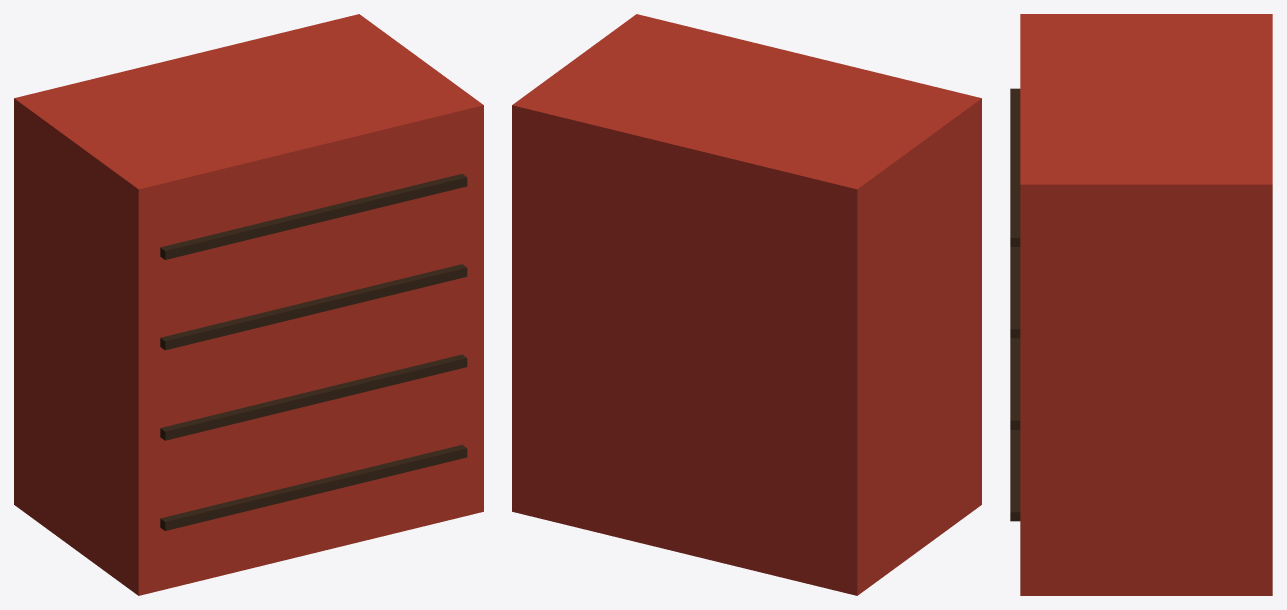
The model's file is f_toolbox.glb.
The picture shows the model from 3 angles, left to right: view 1: azimuth 30°, elevation 25°; view 2: azimuth 150°, elevation 25°; view 3: azimuth 270°, elevation 25°; orthographic projection.
Parts seen in each view (by area): view 1: toolbox; view 2: toolbox; view 3: toolbox.
Boxes of the visible parts, x1=… form: toolbox: x1=14, y1=14, x2=483, y2=595; toolbox: x1=512, y1=14, x2=981, y2=595; toolbox: x1=1010, y1=14, x2=1272, y2=595.
Bounding box in the file's own units: 0.8 × 0.9 × 0.52.
